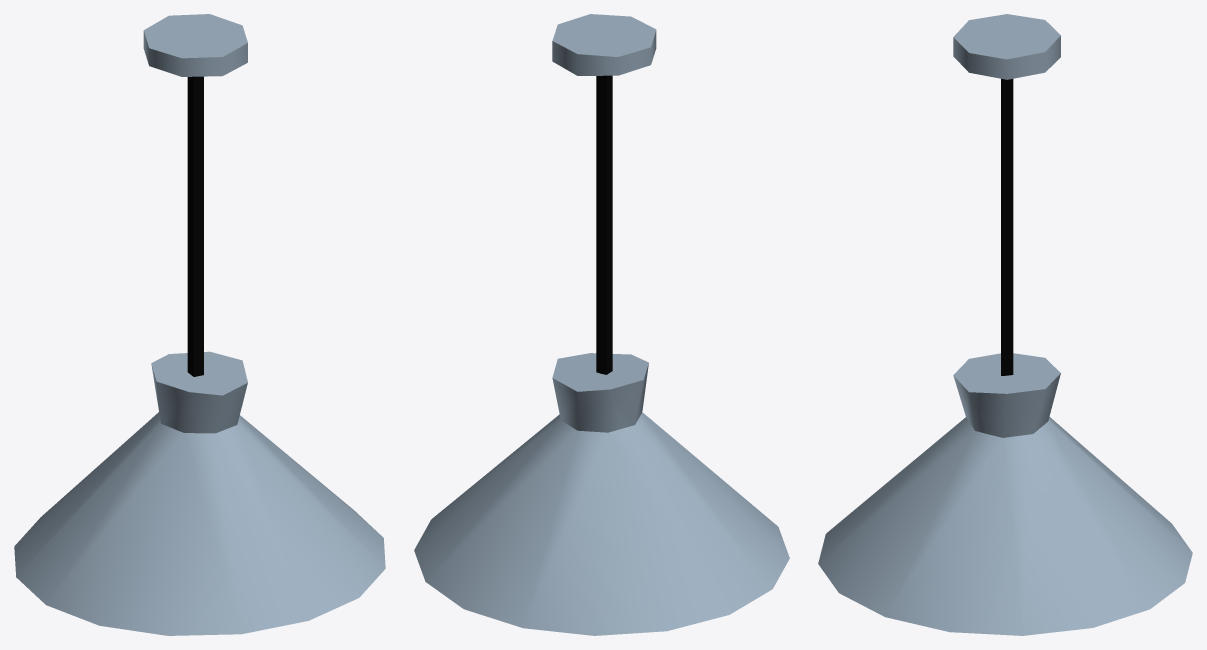
Rendered from chandelier.fbx.
The picture shows the model from 3 angles, left to right: view 1: azimuth 30°, elevation 25°; view 2: azimuth 150°, elevation 25°; view 3: azimuth 270°, elevation 25°; orthographic projection.
Parts seen in each view (by area): view 1: chandelier.001; view 2: chandelier.001; view 3: chandelier.001.
Part boxes in pixels (bbox=[...]): chandelier.001: bbox=[14, 14, 385, 635]; chandelier.001: bbox=[414, 14, 789, 635]; chandelier.001: bbox=[818, 14, 1192, 635].
Bounding box in the file's own units: 0.7408 × 1.14 × 0.7408.
